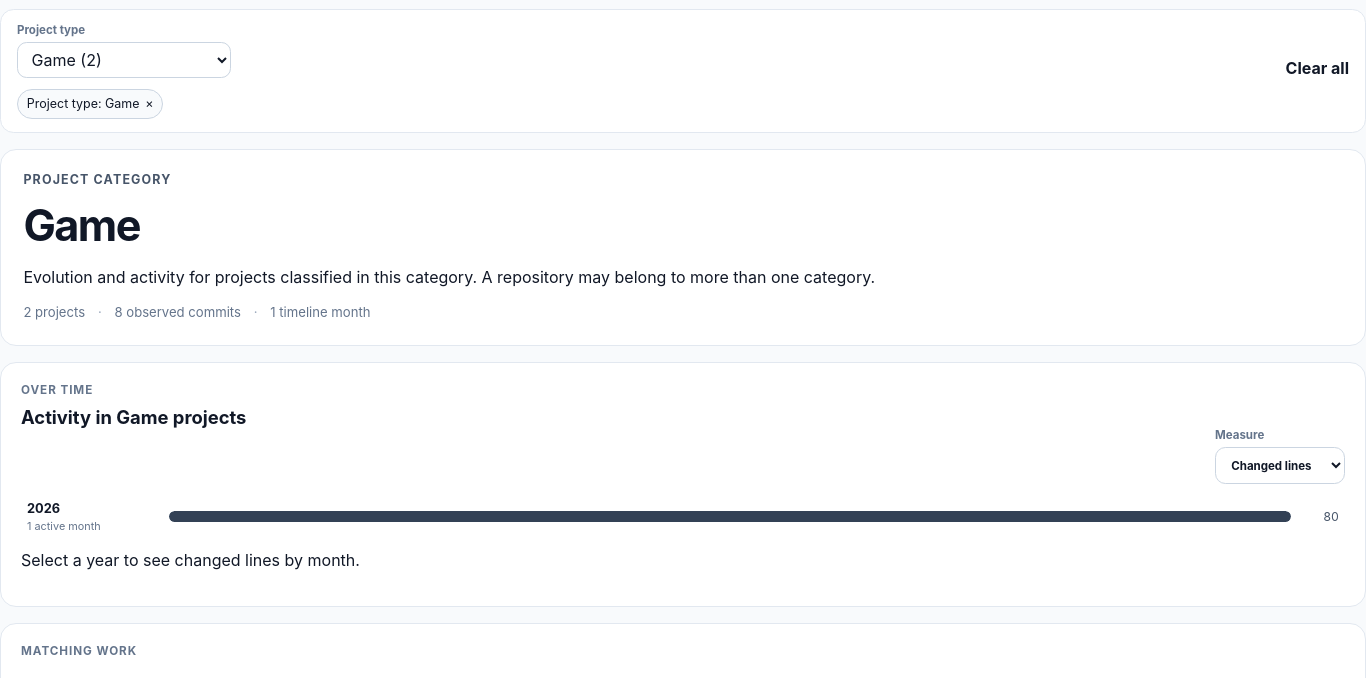
Explore selection consistency › applies the same project-type and time selection to Over time and matching projects
This screenshot has width=1366, height=678.
Expected: the heading "Activity in Game projects" is shown, [21,406,246,428]
What coordinates should you click on to do the following:
click the button "2026 1 active month 80"
I would click on:
 (683, 517)
Its box is [21,500,1345,534].
(page scrolled)
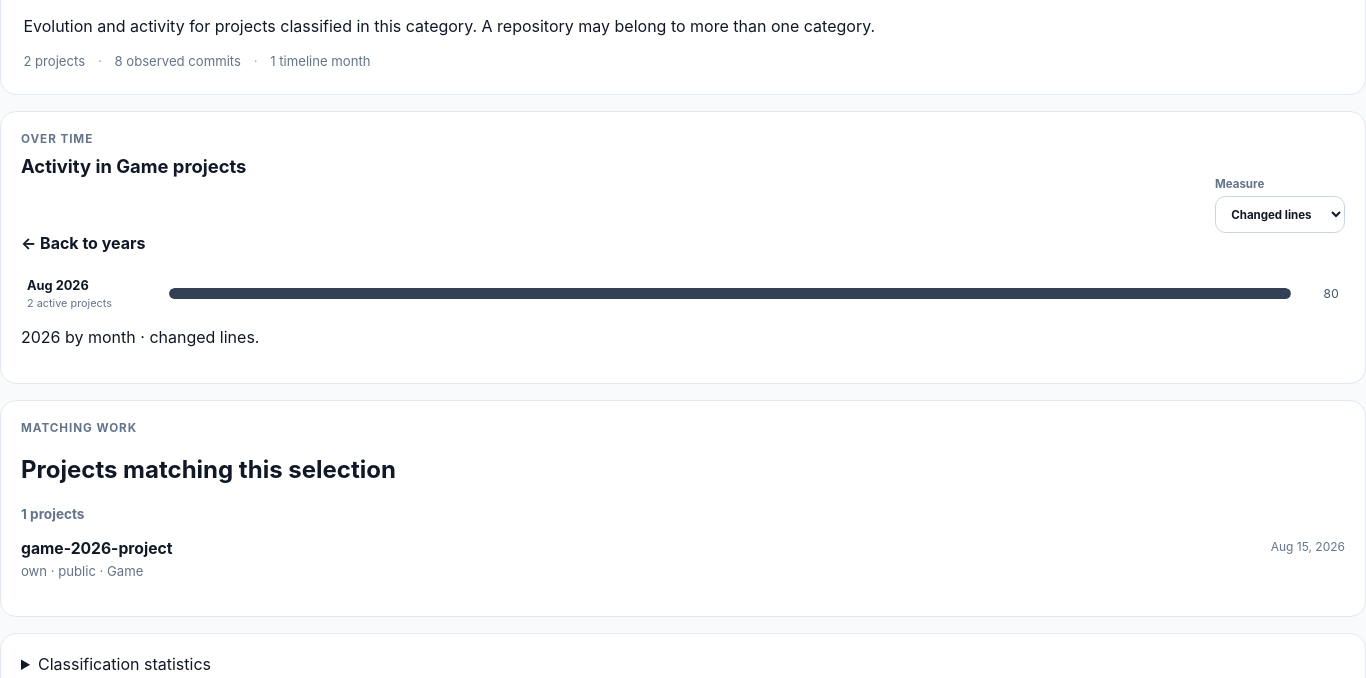
Now the button "game-2026-project" is shown, box [21,539,172,558]
